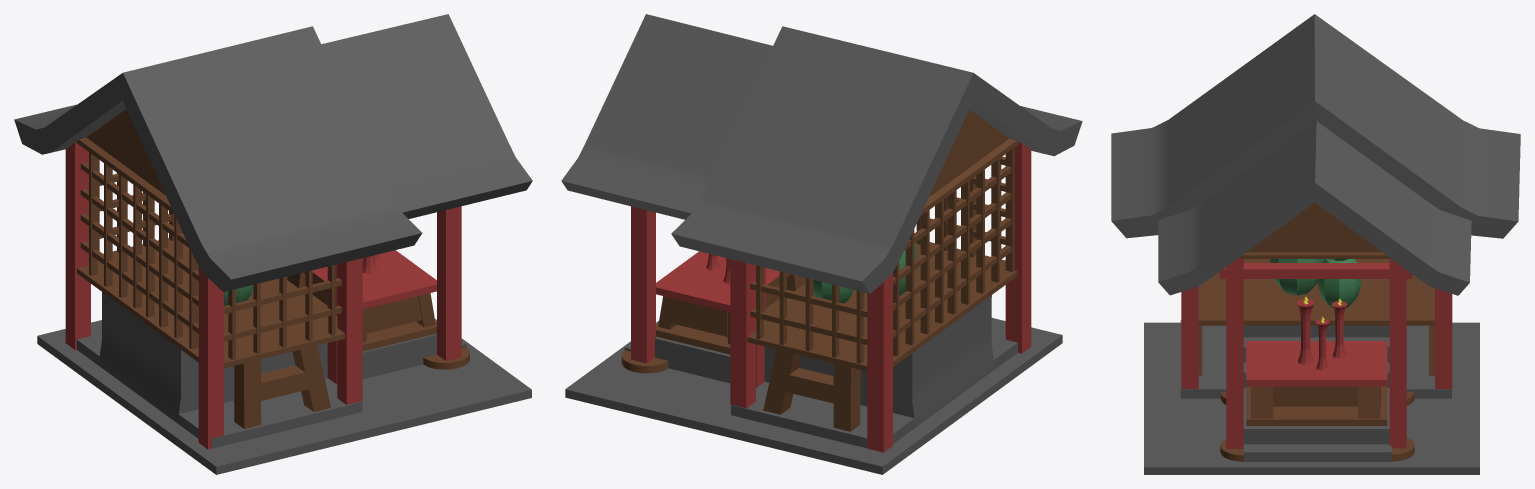
File: shrineSmallOn.fbx
3 views of the same model, side by side, from view 1: azimuth 30°, elevation 25°; view 2: azimuth 150°, elevation 25°; view 3: azimuth 270°, elevation 25° (orthographic). The views are drawn at different scales.
Parts seen in each view (by area): view 1: shrineSmallOn; view 2: shrineSmallOn; view 3: shrineSmallOn.
Part boxes in pixels (<box>): shrineSmallOn: <box>14,14,532,474</box>; shrineSmallOn: <box>561,14,1082,474</box>; shrineSmallOn: <box>1111,14,1520,474</box>.
Bounding box in the file's own units: 1.3 × 1.27 × 1.5.
